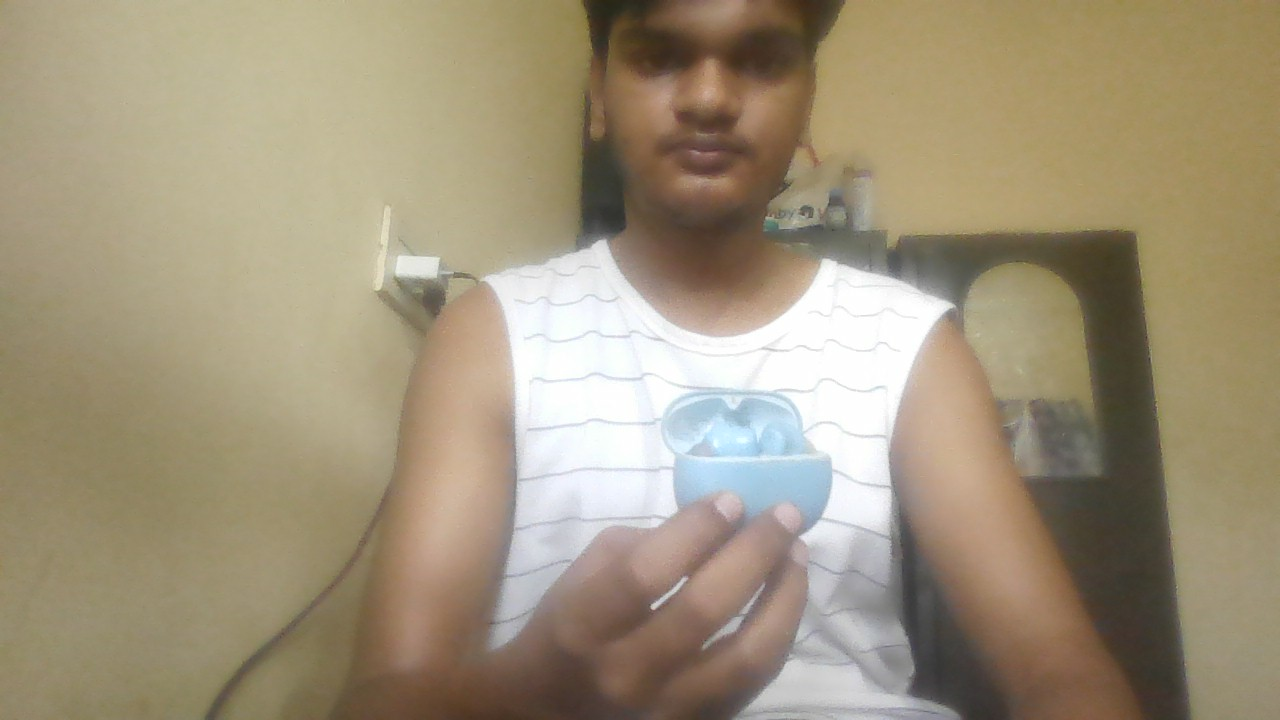earphone: (656, 393, 840, 520)
